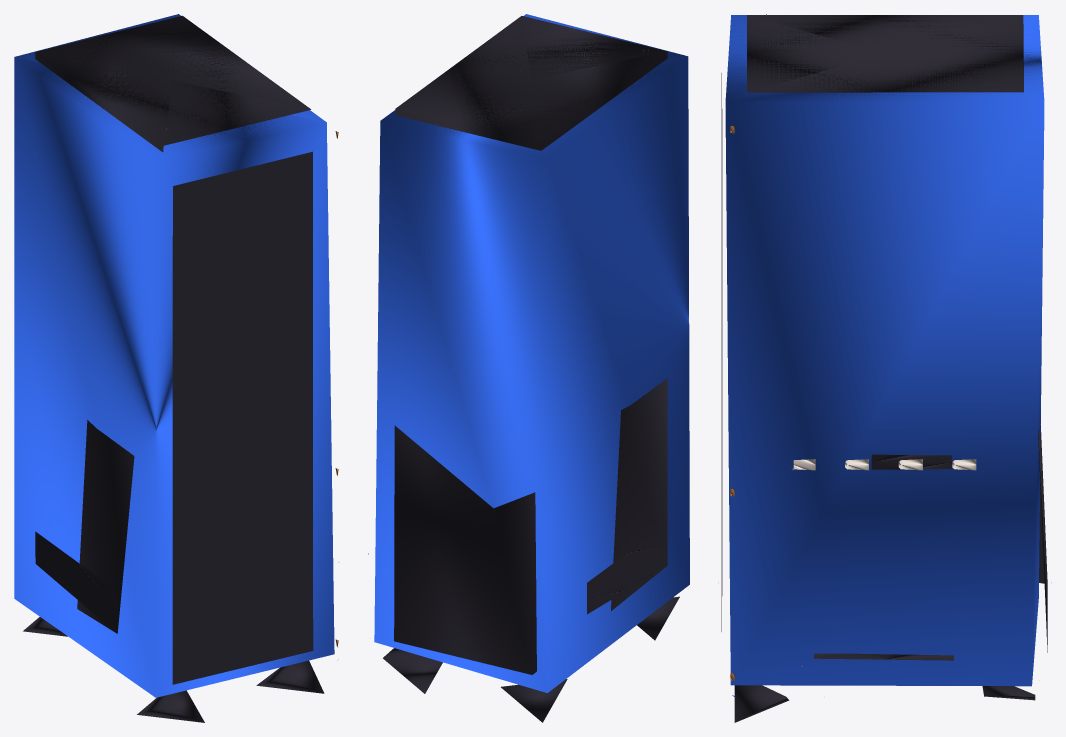
The picture shows the model from 3 angles, left to right: view 1: azimuth 30°, elevation 25°; view 2: azimuth 150°, elevation 25°; view 3: azimuth 270°, elevation 25°; orthographic projection. The views are drawn at different scales.
Size of the model in its own units: 0.7815 by 2.16 by 1.03.
